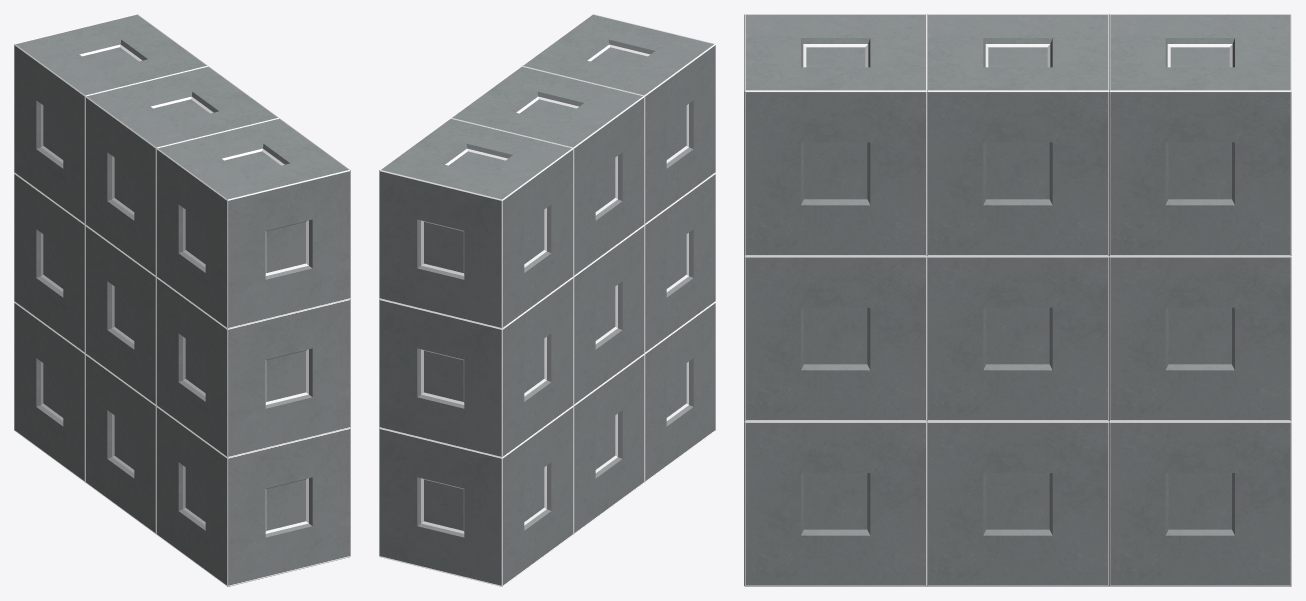
3 views of the same model, side by side, from view 1: azimuth 30°, elevation 25°; view 2: azimuth 150°, elevation 25°; view 3: azimuth 270°, elevation 25° (orthographic). The views are drawn at different scales.
Parts seen in each view (by area): view 1: Cube_9 4*4*4m; view 2: Cube_9 4*4*4m; view 3: Cube_9 4*4*4m.
Part boxes in pixels (left/top/right/bottom): Cube_9 4*4*4m: left=14, top=14, right=350, bottom=586; Cube_9 4*4*4m: left=379, top=14, right=715, bottom=586; Cube_9 4*4*4m: left=744, top=14, right=1291, bottom=586.
Size of the model in its own units: 403 by 1203 by 1203.
Materials: 2 (1 with a texture image).
